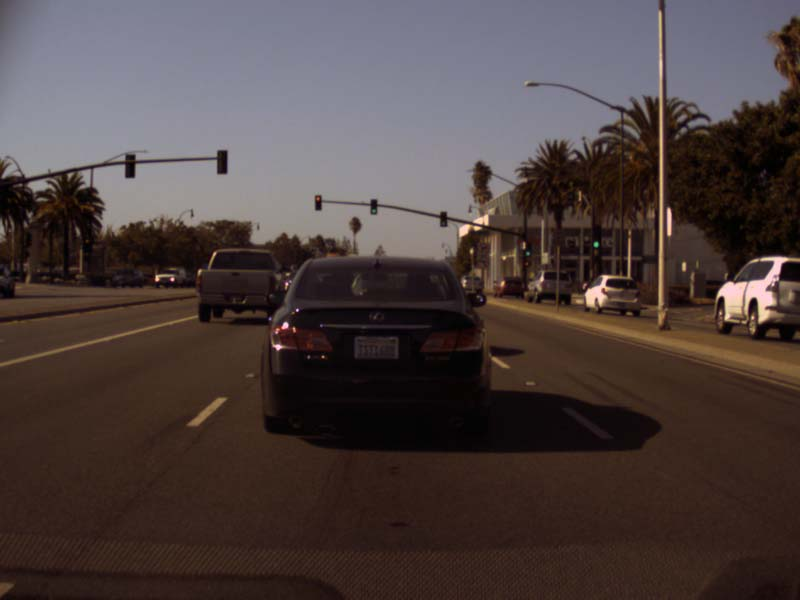Green: (592, 224, 600, 249), (370, 199, 377, 214), (440, 211, 447, 226), (524, 241, 530, 257)
Red: (82, 238, 91, 253), (315, 195, 321, 209)
